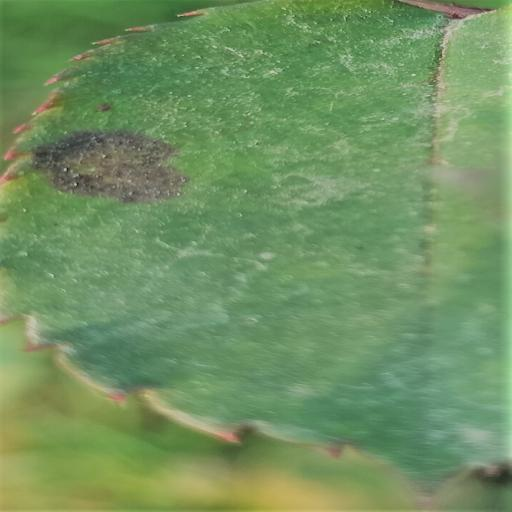black_spot: (0, 0, 511, 492)
